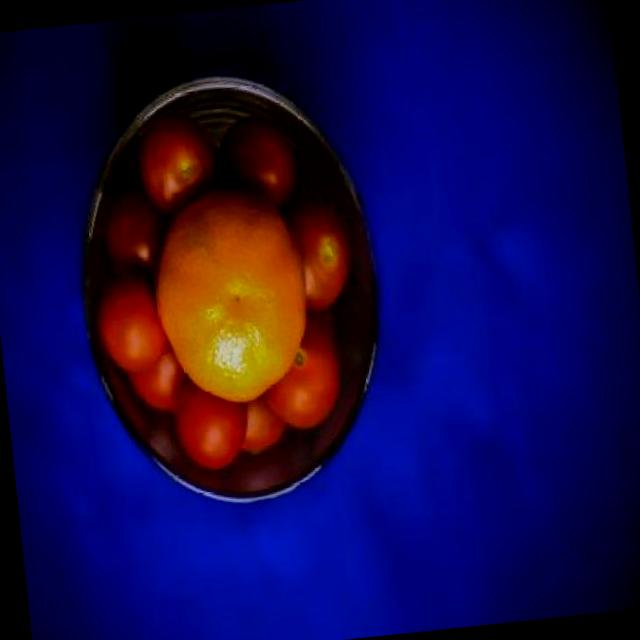Apple: (258, 309, 348, 430), (132, 110, 220, 214), (90, 268, 168, 378), (215, 113, 298, 210), (284, 198, 354, 310), (173, 377, 254, 473), (100, 184, 163, 274), (123, 342, 190, 418), (236, 402, 286, 454)
Orange: (144, 177, 318, 410)
